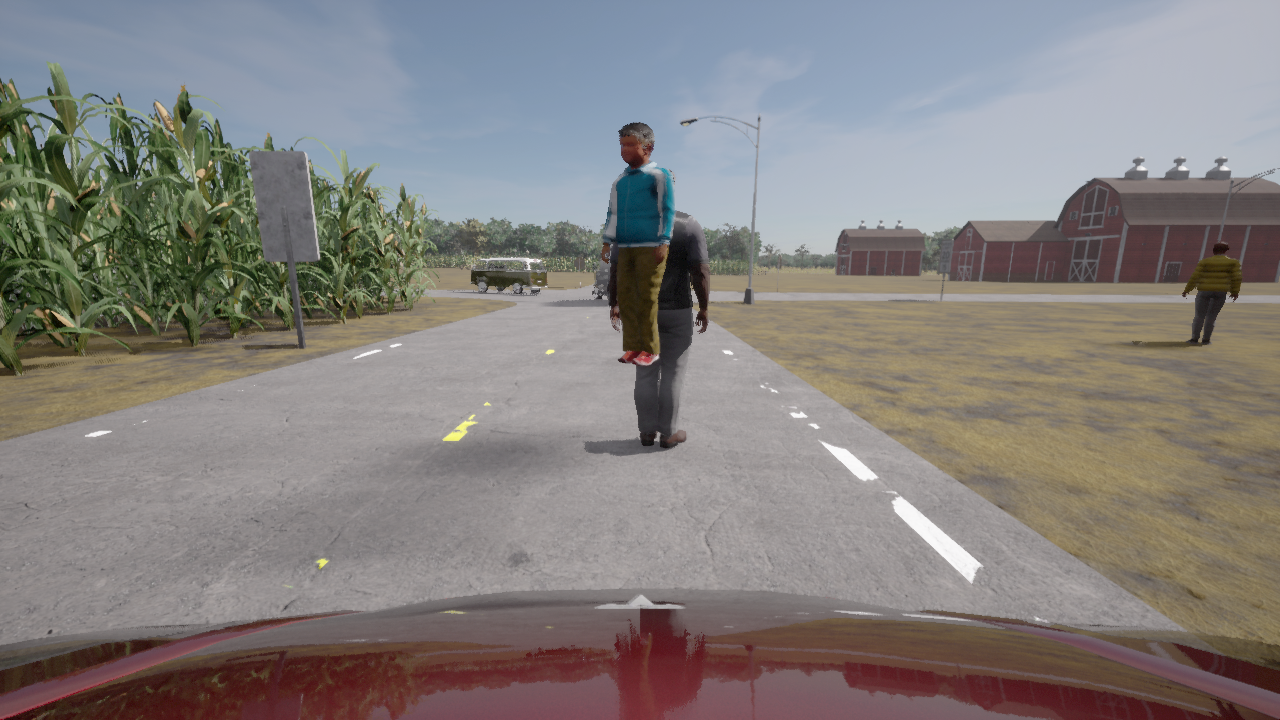cyclist: (0, 588, 1279, 719), (469, 257, 547, 294), (592, 243, 613, 305), (359, 281, 362, 288)
pedestrian: (610, 168, 711, 447), (600, 122, 675, 366), (1183, 241, 1243, 344)
